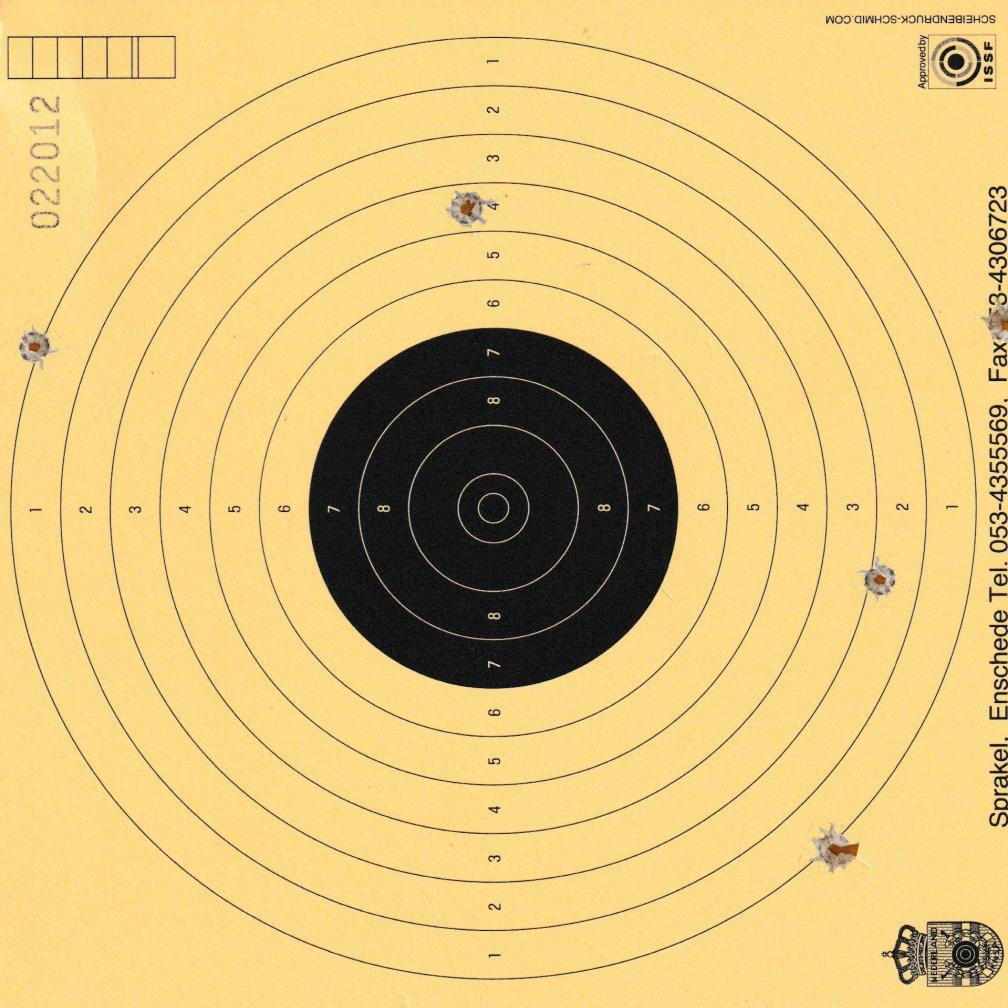0: (987, 304, 1008, 343)
1: (812, 826, 867, 869), (13, 328, 58, 364)
3: (864, 558, 898, 596)
4: (440, 191, 485, 226)
Target: (7, 30, 980, 983)
black_contour: (309, 329, 680, 690)
